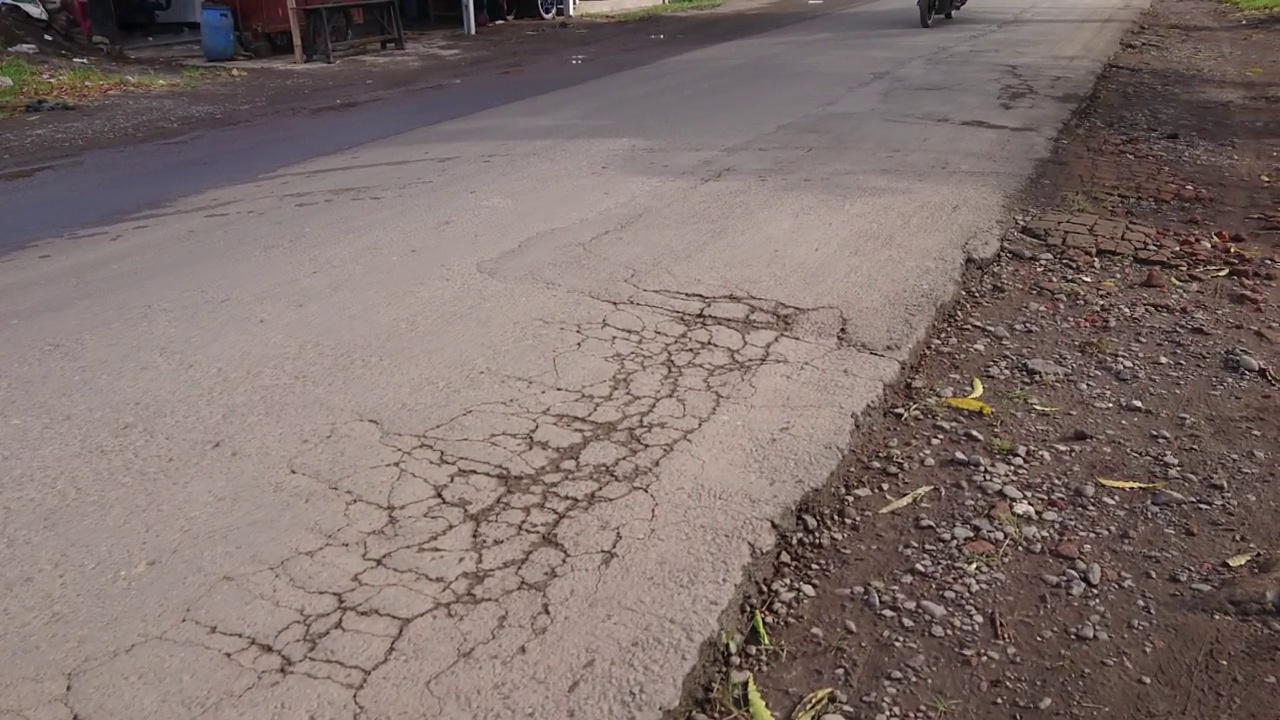Retak: (299, 286, 788, 649)
